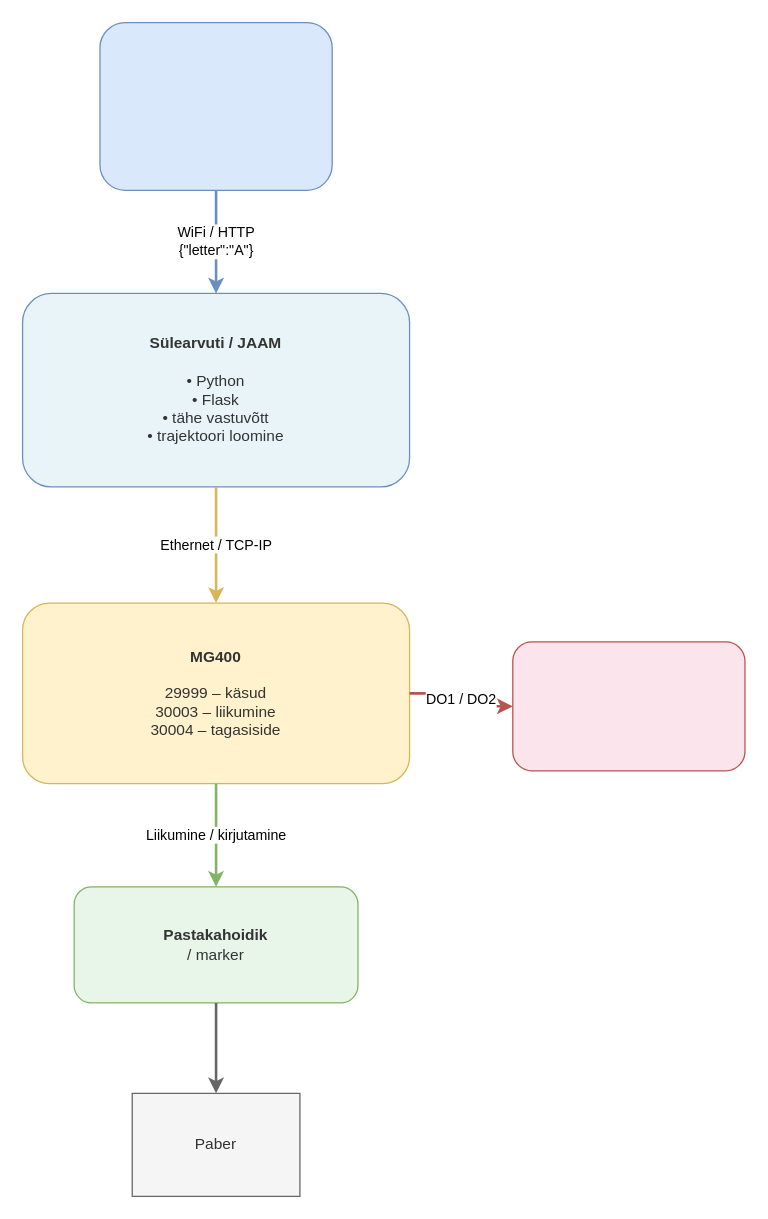
This 768x1219 diagram has some shape labels left out. The shapes that lost their labels are listed below. From the top down, each one's centre as x and y in pixels, then its label:
At point (215, 105): "AtomS3 • nupp • ekraan • WiFi AP".
At point (628, 705): "Pumbakast suction / blow".
